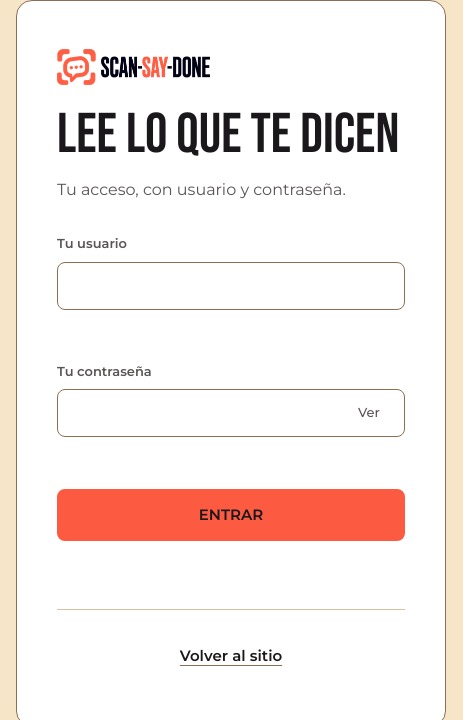
Test: LoginCard › el campo de contraseña es type='password' y el control lo cambia a 'text' y vuelve, con aria-pressed correcto
Click the button with aria-label "ver contraseña".
click(369, 413)  # box left=347, top=391, right=391, bottom=435
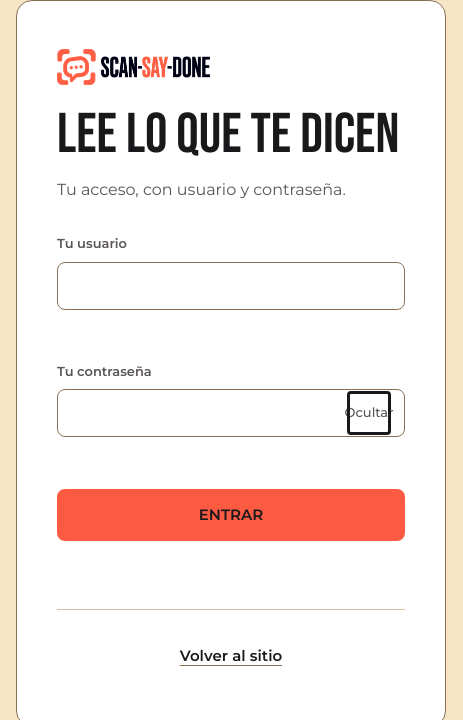
Result: the button named "ver contraseña" reads "Ocultar"
Click the button named "ver contraseña".
click(369, 413)  # box left=347, top=391, right=391, bottom=435
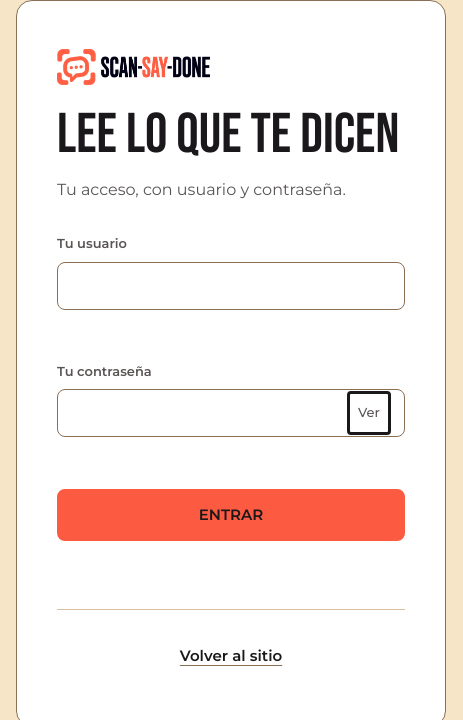
Result: the button with aria-label "ver contraseña" reads "Ver" at left=347, top=391, right=391, bottom=435
